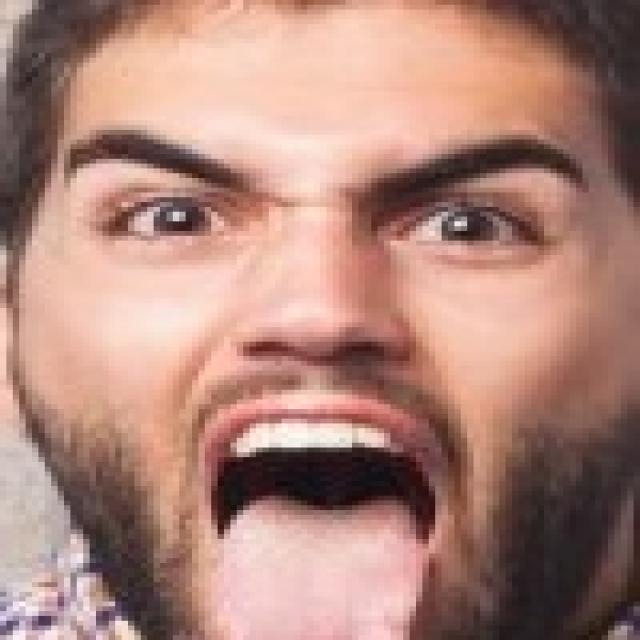Anxiety: (11, 5, 634, 635)
